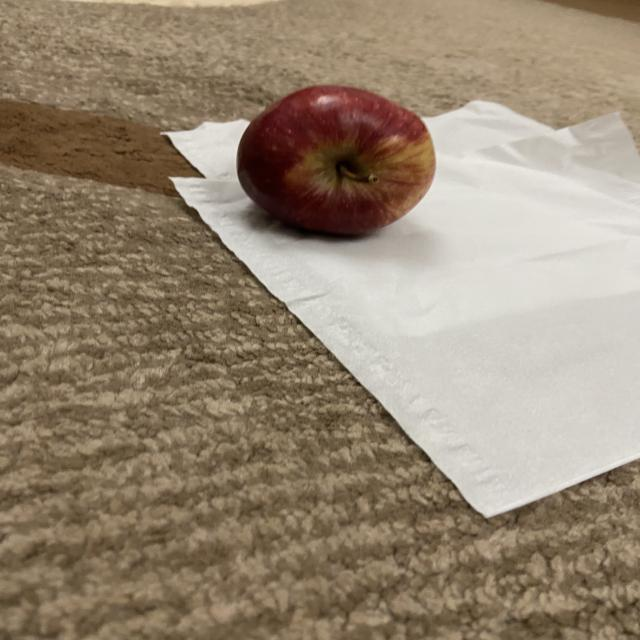apple: (238, 82, 440, 242)
